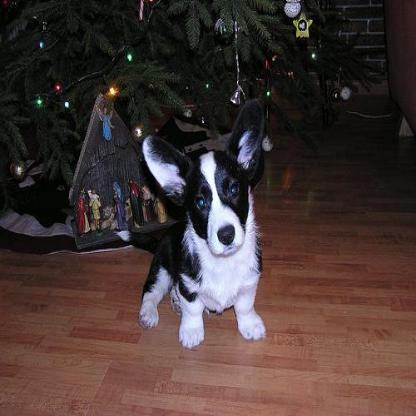Cardigan: (136, 123, 266, 347)
